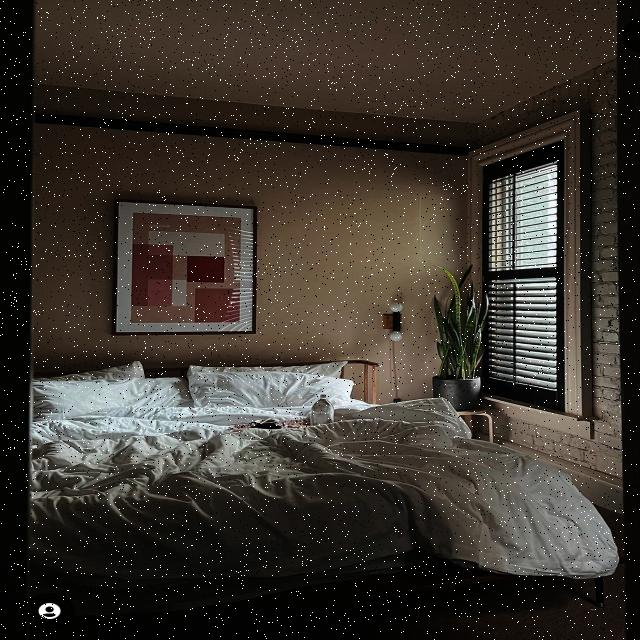bed: (32, 357, 622, 587)
